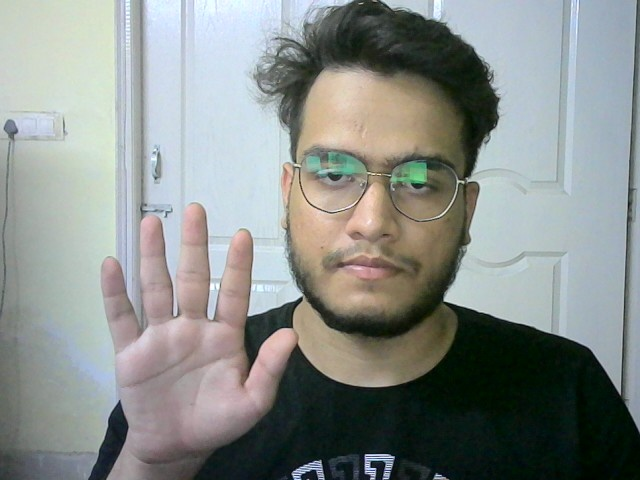Hello: (101, 202, 304, 466)
